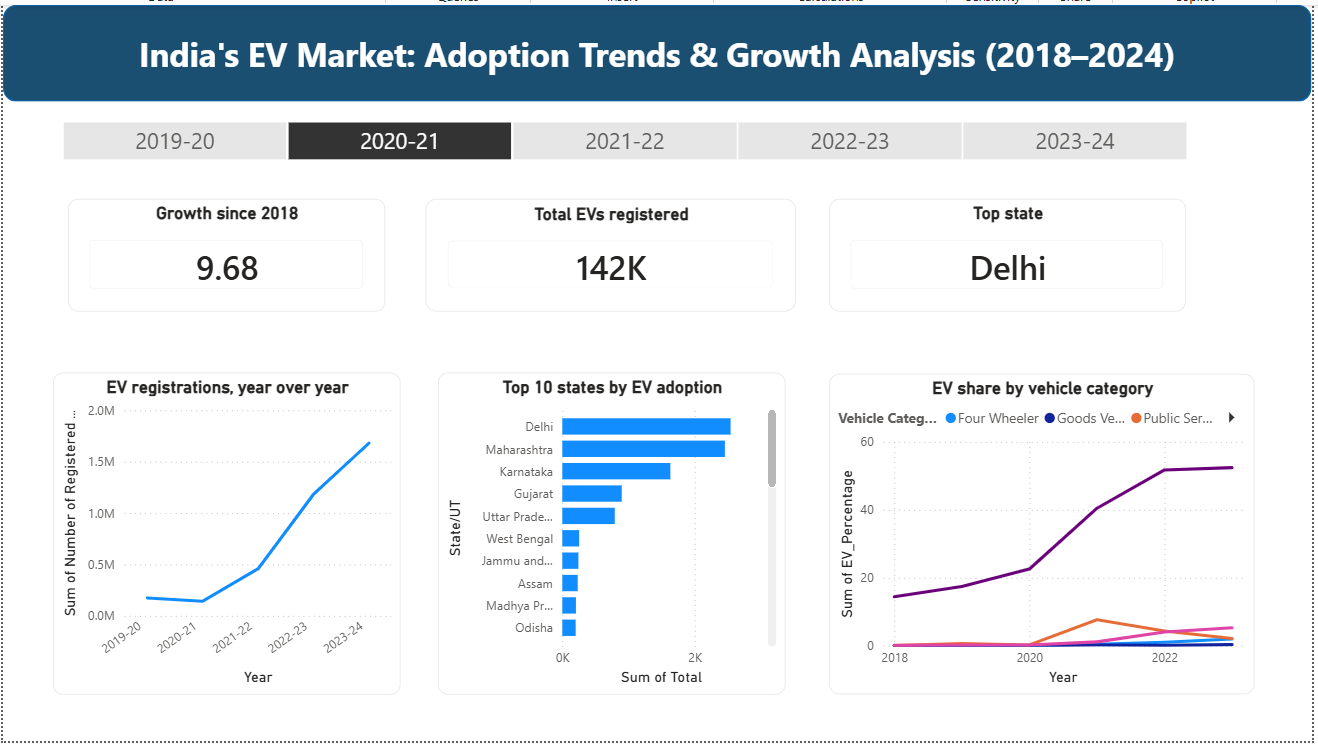

The page's visual inventory and layout, read from the dashboard file:
{"tool":"powerbi","page":{"name":"Page 1","canvas":[1280,720],"ordinal":0},"visuals":[{"type":"lineChart","title":"EV registrations, year over year","fields":{"Category":["clean_yearwise.Year"],"Y":["Sum(clean_yearwise.Number of Registered Electric Vehicles)"]},"box":[48.8,360,340,315],"z":0},{"type":"lineChart","title":"EV share by vehicle category","fields":{"Category":["clean_categorywise.Year"],"Y":["Sum(clean_categorywise.EV_Percentage)"],"Series":["clean_categorywise.Vehicle Category"]},"box":[808.8,361.2,416.2,313.8],"z":1000},{"type":"barChart","title":"Top 10 states by EV adoption","fields":{"Category":["clean_buses_statewise.State/UT"],"Y":["Sum(clean_buses_statewise.Total)"]},"box":[425,360,340,315],"z":2000},{"type":"cardVisual","title":"Total EVs registered","fields":{"Data":["Sum(clean_yearwise.Number of Registered Electric Vehicles)"]},"box":[413.8,190,362.5,110],"z":3000},{"type":"slicer","fields":{"Values":["clean_yearwise.Year"]},"box":[33.3,94.4,1158.9,63],"z":4000},{"type":"cardVisual","title":"Growth since 2018","fields":{"Data":["clean_yearwise.Growth_Multiple"]},"box":[63.8,190,310,110],"z":5000},{"type":"shape","box":[0,0,1280,94.4],"z":6000},{"type":"cardVisual","title":"Top state","fields":{"Data":["clean_buses_statewise.Top State"]},"box":[808.8,190,348.8,110],"z":7000}]}

Visuals, with their boxes on the page's 1280x720 design canvas (x1, y1, x2, y2). These are canvas units, not pixel positions in the 1318x747 screenshot, which may show the page scaled, cropped or inside an application window:
"EV registrations, year over year" lineChart: rect(49, 360, 389, 675)
"EV share by vehicle category" lineChart: rect(809, 361, 1225, 675)
"Top 10 states by EV adoption" barChart: rect(425, 360, 765, 675)
"Total EVs registered" cardVisual: rect(414, 190, 776, 300)
slicer - clean_yearwise.Year: rect(33, 94, 1192, 157)
"Growth since 2018" cardVisual: rect(64, 190, 374, 300)
shape: rect(0, 0, 1280, 94)
"Top state" cardVisual: rect(809, 190, 1158, 300)
